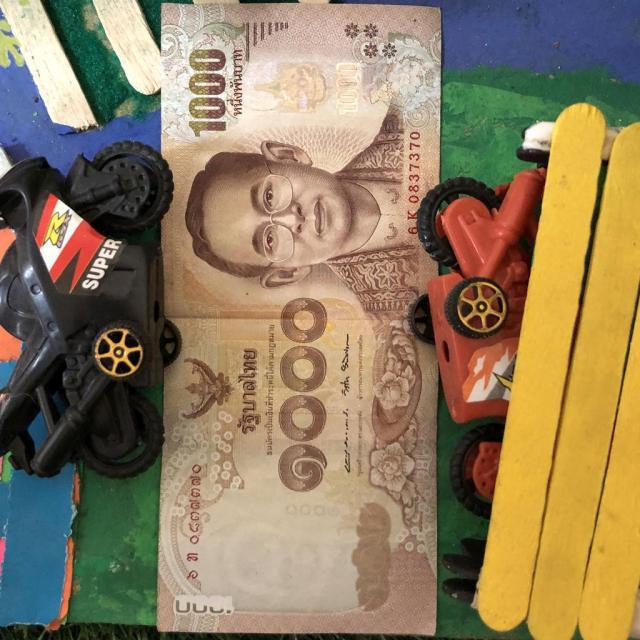THAI1000: (158, 3, 441, 634)
